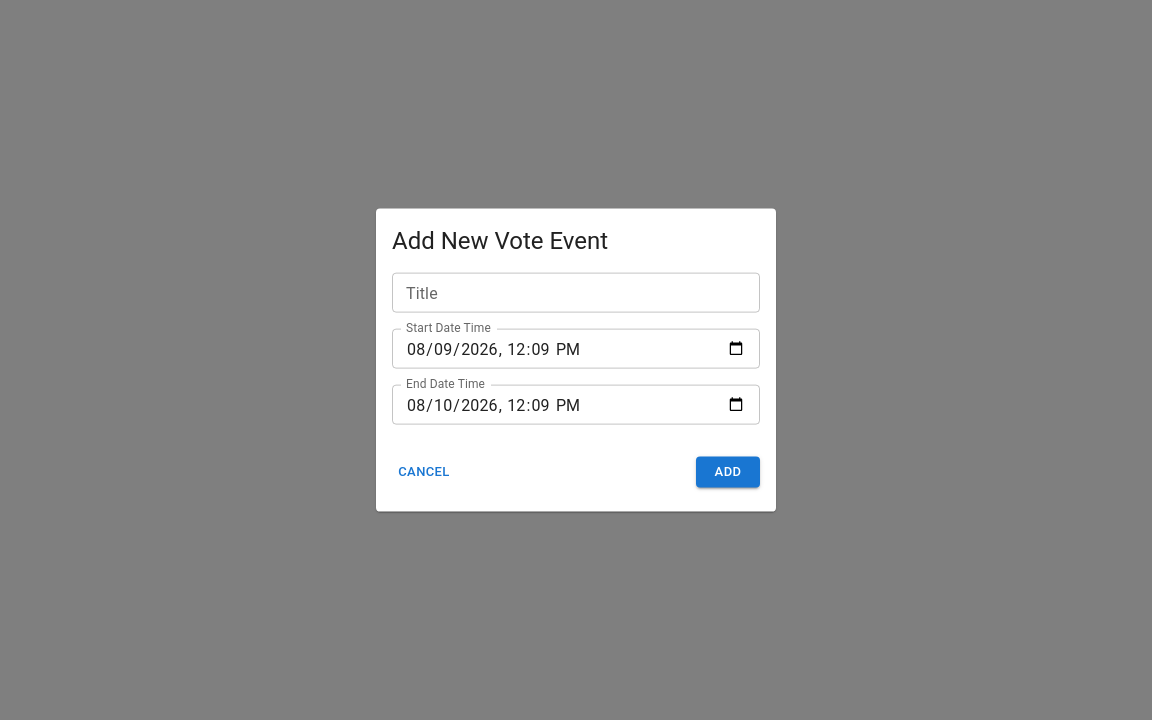
Scenario: <AddVoteEventModal /> › should not submit if start time is equal to or greater than end time
Note: Interact with form inputs
Type "Test Title" into the field with id "add-vote-event-title-input" at (576, 293), box [392,273,760,313]
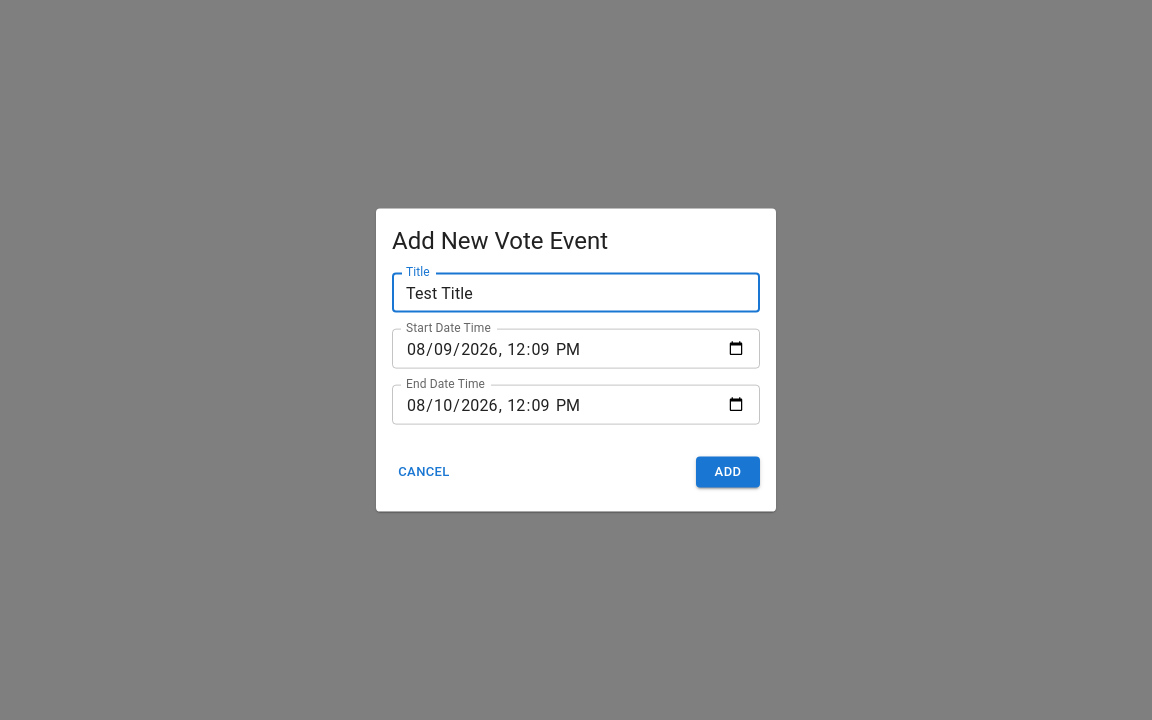
Type "2024-07-01T08:00" into the field with id "add-vote-event-start-time-input" at (576, 349), box [392,329,760,369]
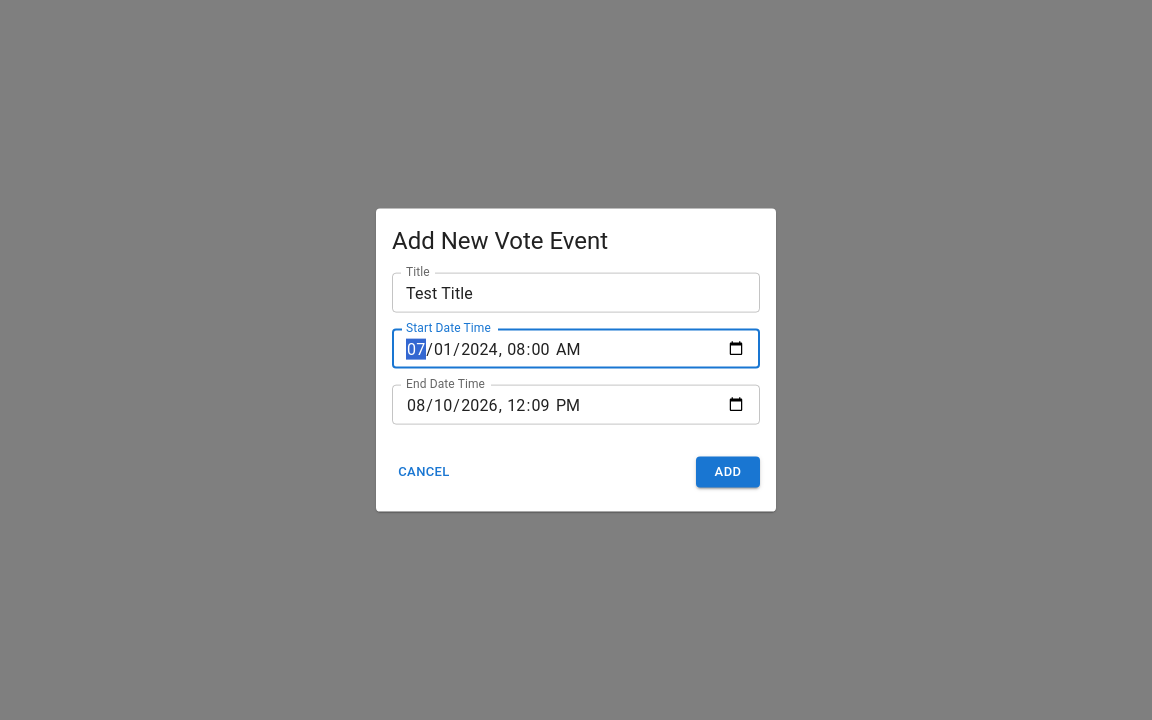
Type "2024-06-01T08:00" into the field with id "add-vote-event-end-time-input" at (576, 405), box [392,385,760,425]
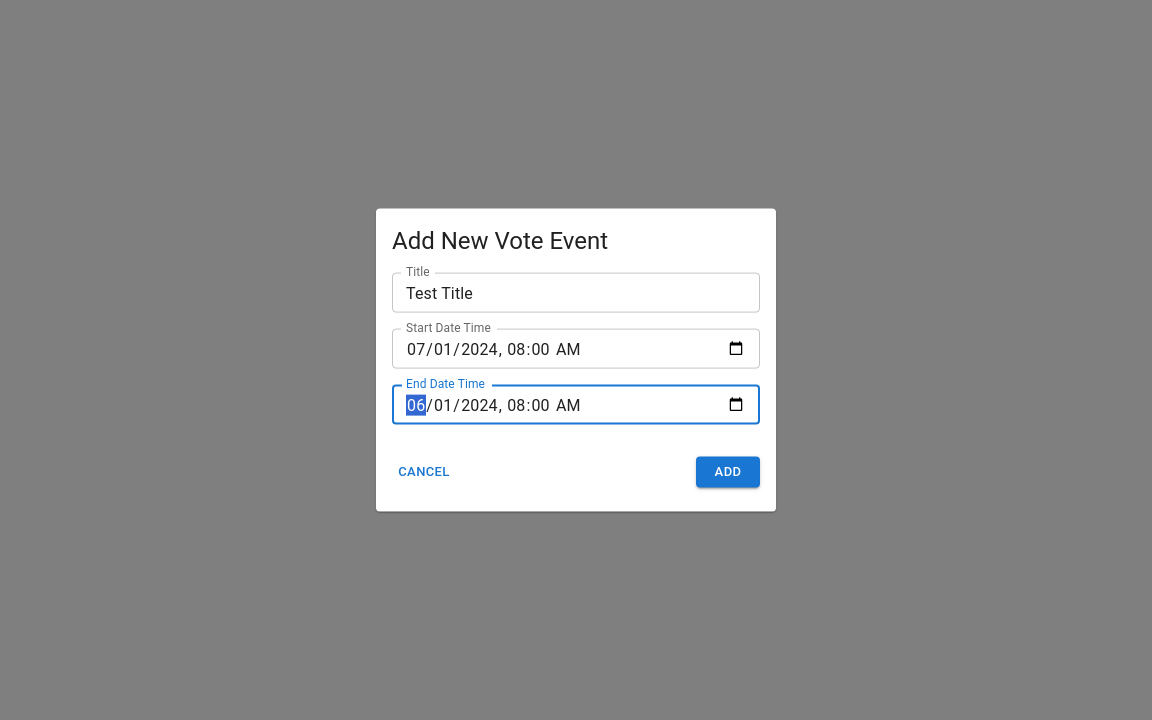
Note: Submit the form
Click the button with id "add-vote-event-button" at (728, 473), box [696,457,760,488]
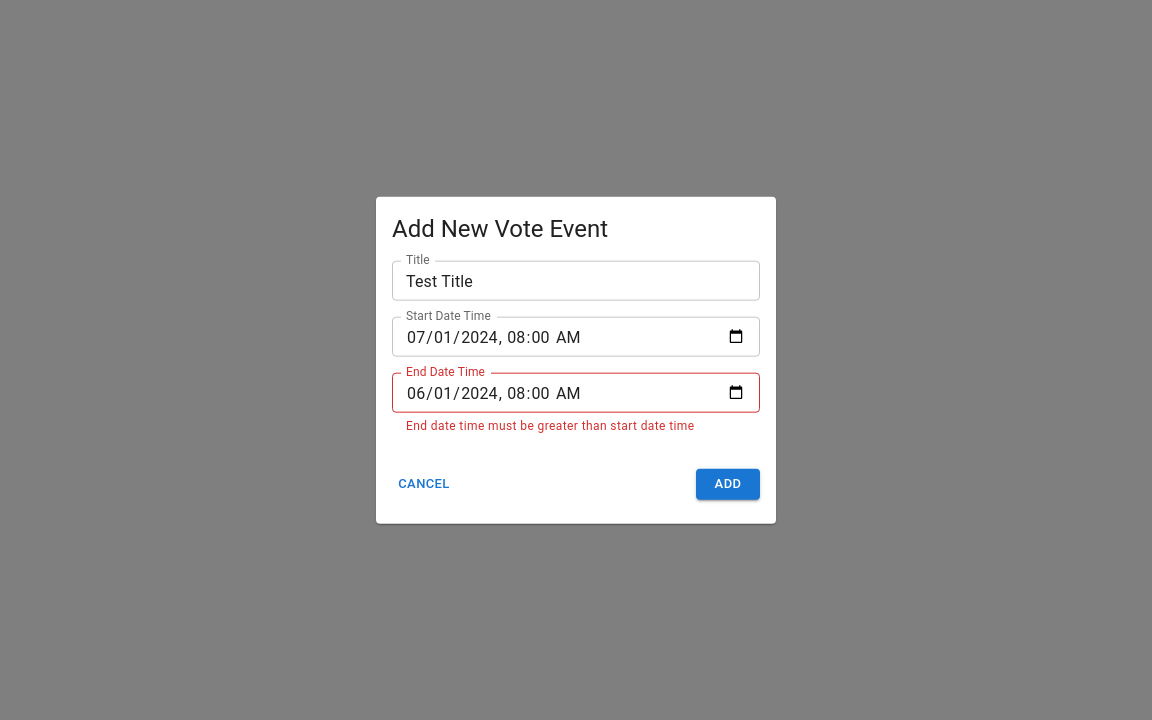
Expected: the text "End date time must be greater than start date time" is shown, [406,419,695,433]
